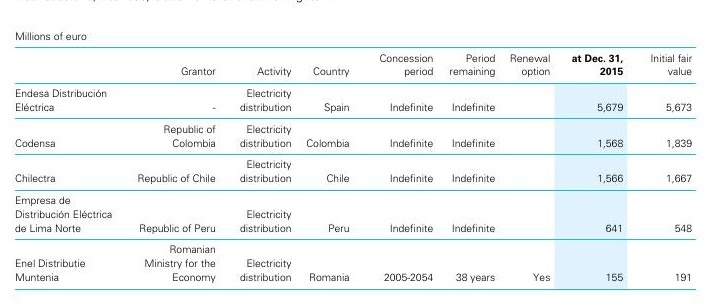table: (0, 0, 710, 308)
